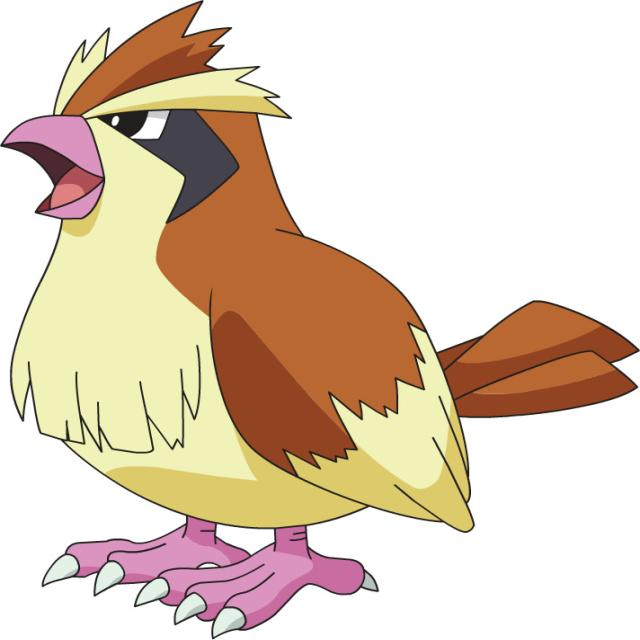Pidgey: (1, 21, 624, 628)
